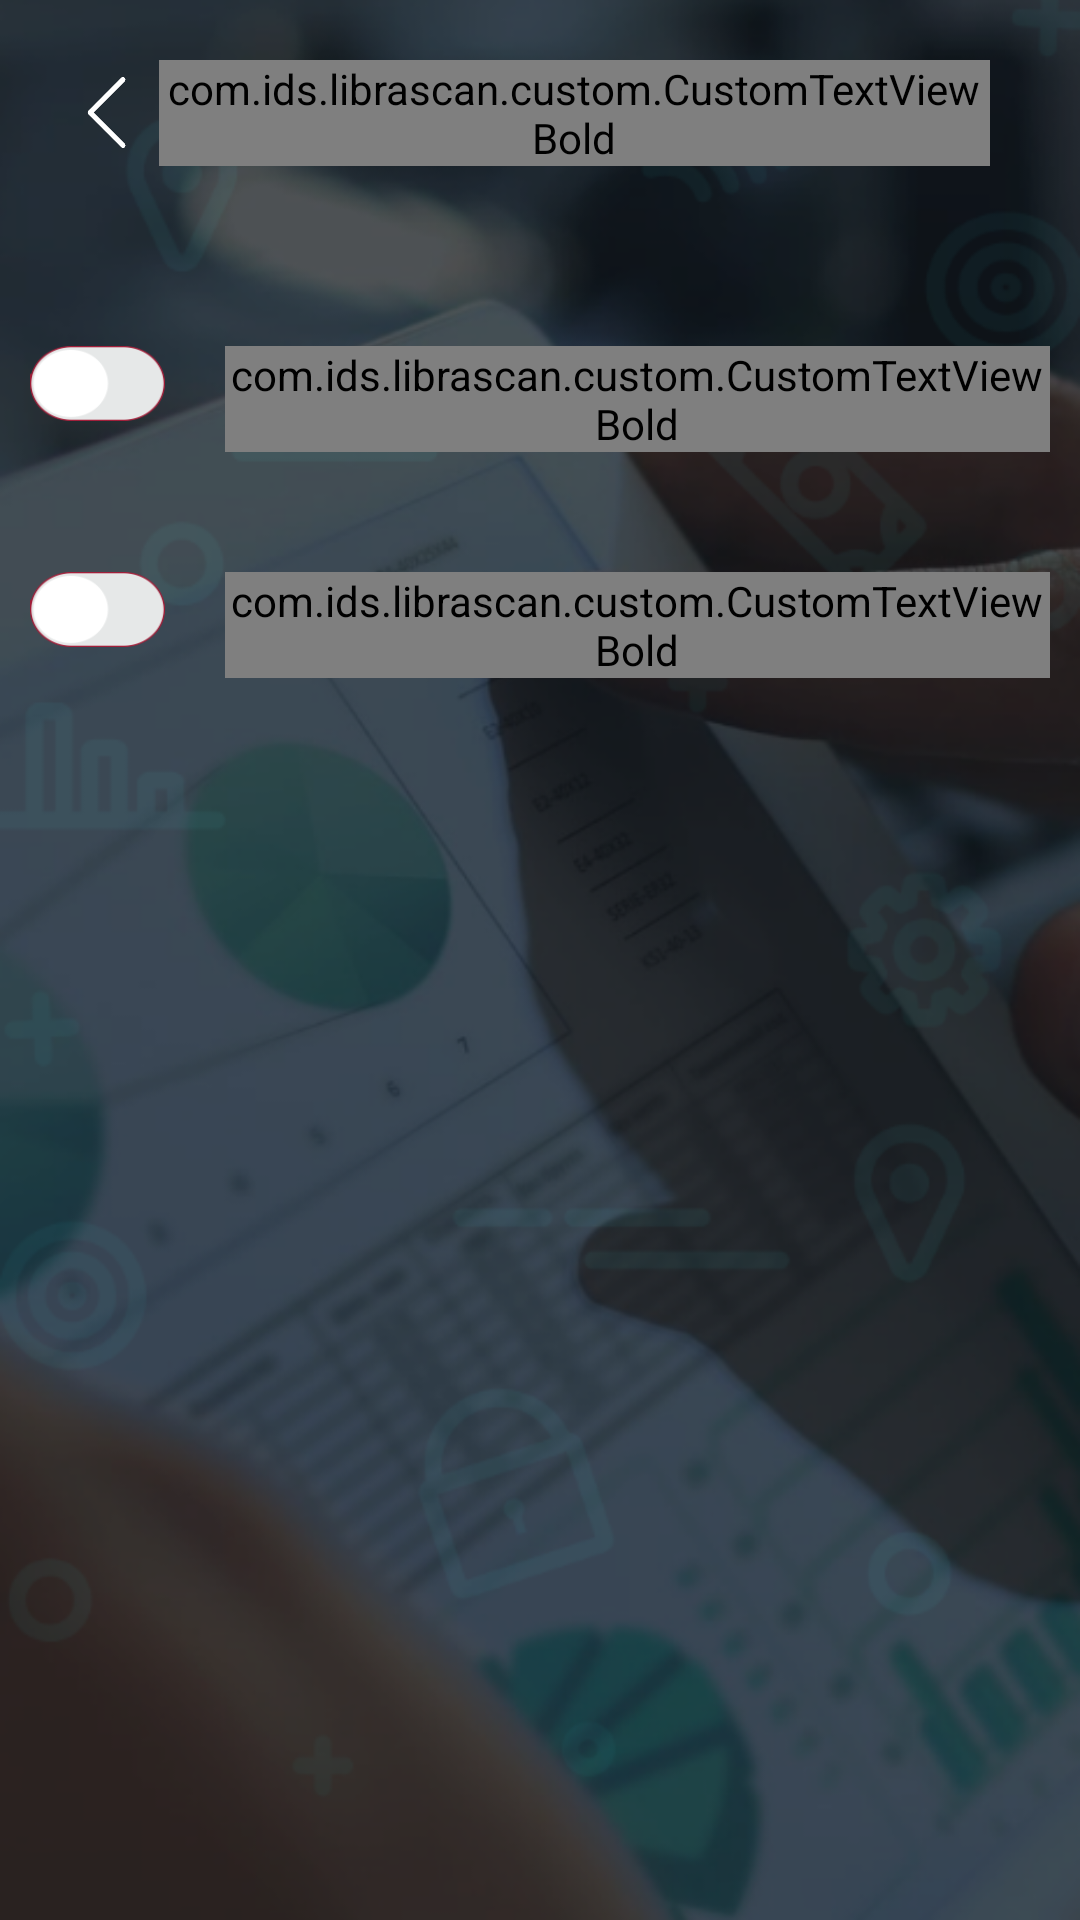

Locate icon controls on the screen. Image size 1080 x 1920, boxes as box=[x1, y1, x2, y2].
back: box=[88, 77, 126, 148]
